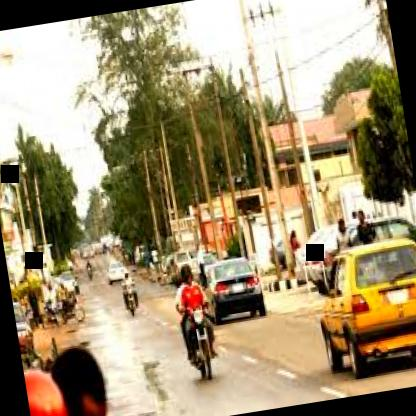car: (301, 223, 416, 396), (191, 236, 281, 322), (106, 252, 134, 288)
